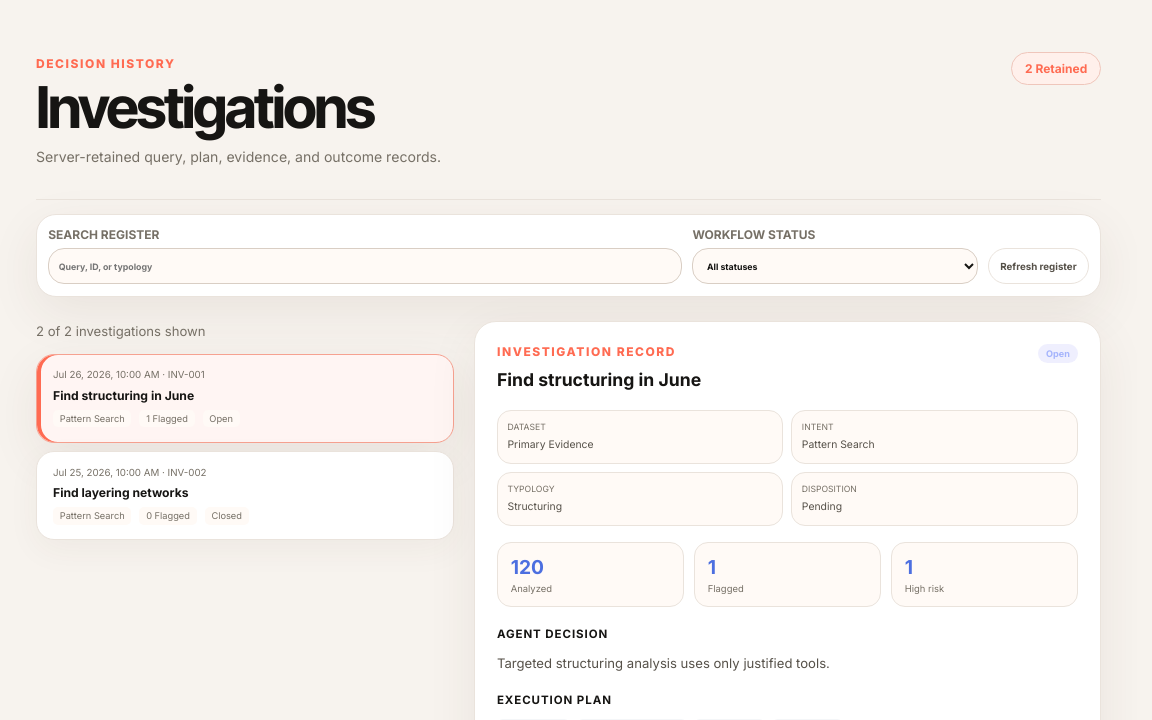
Test: Investigation register workspace › filters the retained register by workflow status and query text
Expected: the element named "Find structuring in June" is shown, [36,323,454,540]
Select "Closed" in the dropdown labelled "Workflow status". click: (835, 266)
box: [692,248,978,284]
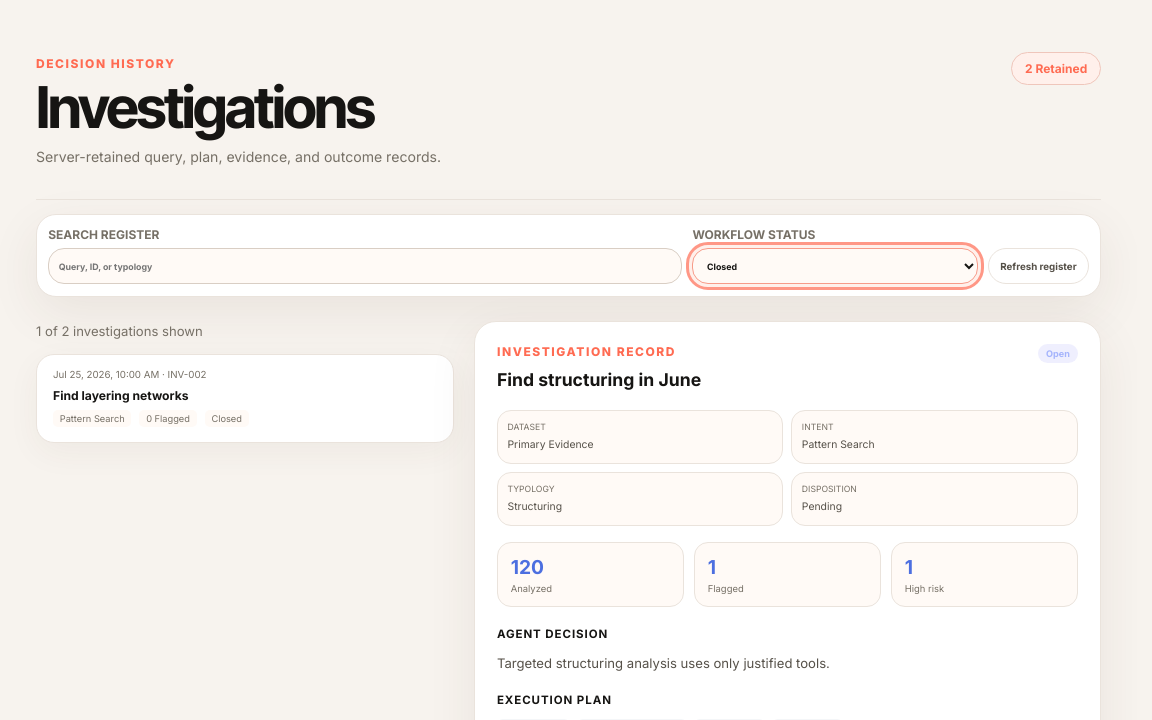
Expected: the text "Find layering networks" is shown, [53,388,189,403]
Type "no match" into the search field labelled "Search register". click: (365, 266)
box: [48,248,682,284]
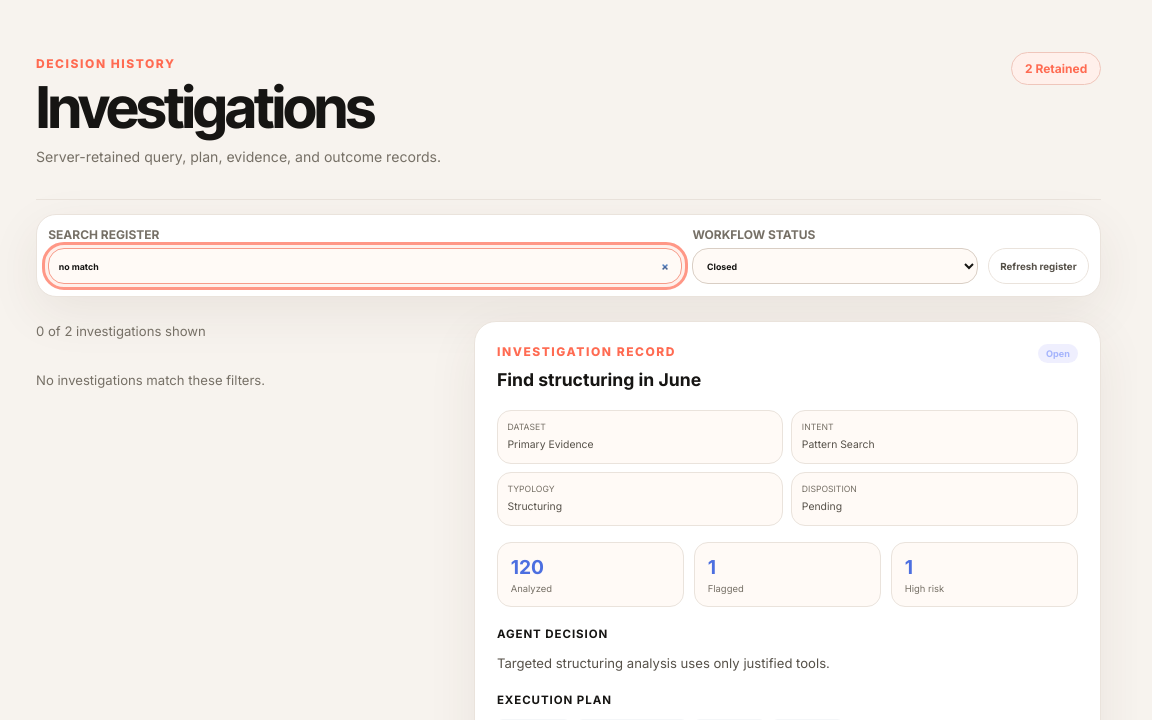
Result: the text "No investigations match these filters." is shown at [36,372,265,388]
